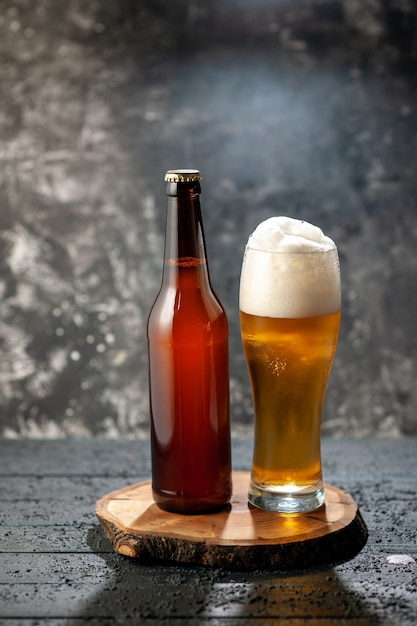alcohol: (238, 213, 343, 515), (144, 170, 230, 512)
